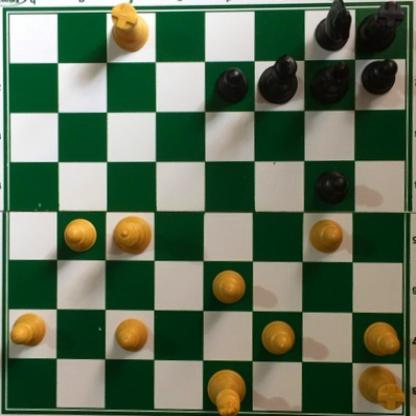black-bishop: (305, 57, 350, 105)
black-king: (256, 53, 299, 107)
black-knight: (314, 1, 354, 55)
black-pawn: (360, 57, 398, 96), (213, 65, 249, 104), (314, 169, 349, 204)
black-rook: (353, 1, 407, 54)
white-king: (205, 365, 247, 416)
white-pawn: (9, 308, 48, 347), (259, 319, 298, 358), (360, 322, 401, 357), (210, 268, 247, 304), (308, 218, 345, 254), (62, 218, 99, 253), (113, 317, 150, 352)
white-queen: (112, 212, 154, 257)
white-rook: (354, 361, 407, 411), (105, 1, 148, 54)
